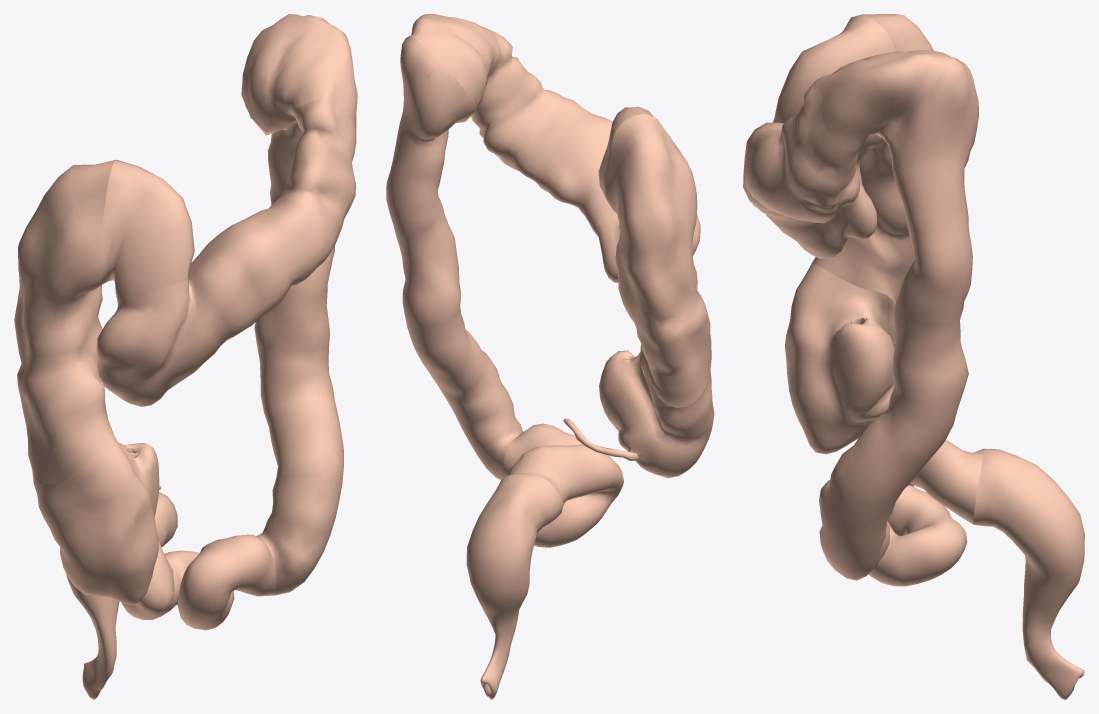
File: gut-large.glb
3 renders of one model, left to right at view 1: azimuth 30°, elevation 25°; view 2: azimuth 150°, elevation 25°; view 3: azimuth 270°, elevation 25°, orthographic. The views are drawn at different scales.
Visible parts, largest first — view 1: VH_M_transverse_colon, VH_M_ascending_colon, VH_M_descending_colon, VH_M_caecum, VH_M_hepatic_flexure_of_colon, VH_M_sigmoid_colon, VH_M_splenic_flexure_of_colon, VH_M_rectum; view 2: VH_M_descending_colon, VH_M_ascending_colon, VH_M_transverse_colon, VH_M_rectum, VH_M_caecum, VH_M_sigmoid_colon, VH_M_splenic_flexure_of_colon, VH_M_hepatic_flexure_of_colon, VH_M_vermiform_appendix; view 3: VH_M_descending_colon, VH_M_caecum, VH_M_transverse_colon, VH_M_rectum, VH_M_sigmoid_colon, VH_M_splenic_flexure_of_colon, VH_M_ascending_colon, VH_M_hepatic_flexure_of_colon.
Part boxes in pixels (box(x1,y1,x2,y2)): VH_M_transverse_colon: box(96, 32, 356, 406); VH_M_ascending_colon: box(14, 160, 115, 484); VH_M_descending_colon: box(241, 26, 343, 595); VH_M_caecum: box(34, 437, 159, 604); VH_M_hepatic_flexure_of_colon: box(101, 159, 194, 302); VH_M_sigmoid_colon: box(121, 492, 276, 630); VH_M_splenic_flexure_of_colon: box(241, 14, 357, 139); VH_M_rectum: box(66, 574, 119, 699); VH_M_descending_colon: box(386, 37, 522, 479); VH_M_ascending_colon: box(605, 113, 711, 407); VH_M_transverse_colon: box(435, 27, 700, 282); VH_M_rectum: box(466, 473, 562, 699); VH_M_caecum: box(599, 350, 714, 478); VH_M_sigmoid_colon: box(503, 423, 623, 547); VH_M_splenic_flexure_of_colon: box(408, 14, 498, 141); VH_M_hepatic_flexure_of_colon: box(598, 106, 670, 211); VH_M_vermiform_appendix: box(563, 418, 638, 460); VH_M_descending_colon: box(819, 58, 978, 580); VH_M_caecum: box(785, 263, 895, 454); VH_M_transverse_colon: box(743, 76, 907, 258); VH_M_rectum: box(973, 448, 1084, 699); VH_M_sigmoid_colon: box(819, 440, 984, 586); VH_M_splenic_flexure_of_colon: box(820, 50, 978, 170); VH_M_ascending_colon: box(811, 14, 933, 303); VH_M_hepatic_flexure_of_colon: box(774, 14, 895, 148).
Size of the model in its own units: 0.1845 by 0.3659 by 0.1574.
